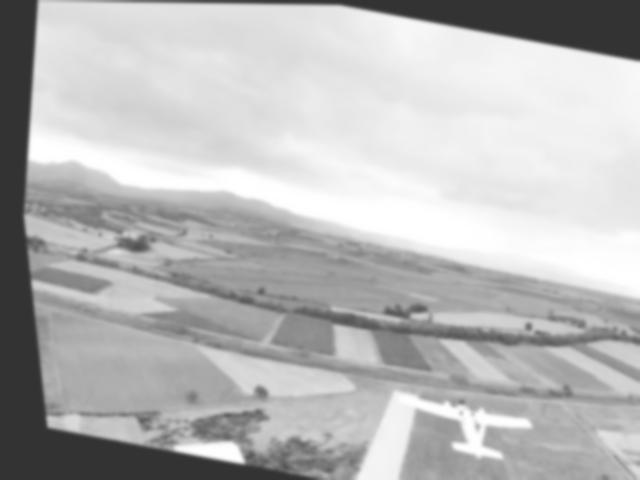hedef: (366, 370, 542, 480)
